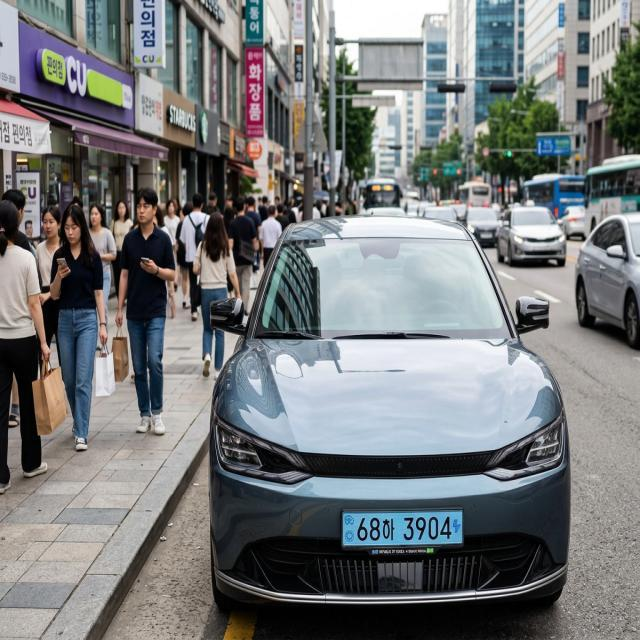car: (329, 497, 487, 573)
carev: (342, 507, 357, 552), (451, 510, 463, 546)
